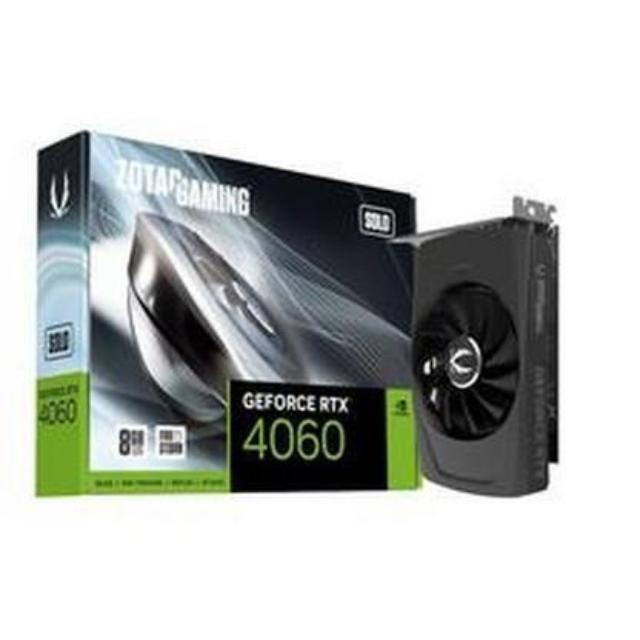GPU: (402, 194, 576, 503)
